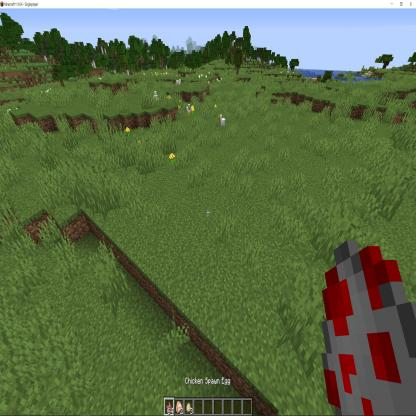minecraft-pigs: (152, 90, 160, 106), (219, 112, 226, 130), (185, 102, 192, 117)
